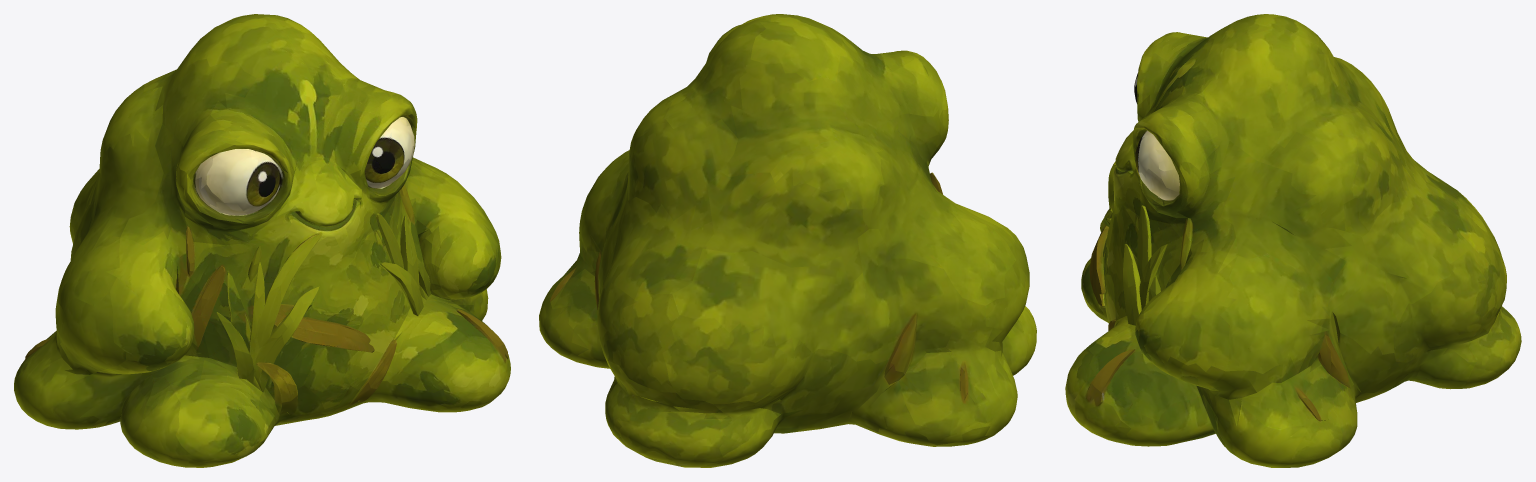
The model's file is bog-slime.glb.
The picture shows the model from 3 angles, left to right: view 1: azimuth 30°, elevation 25°; view 2: azimuth 150°, elevation 25°; view 3: azimuth 270°, elevation 25°; orthographic projection. The views are drawn at different scales.
Visible parts, largest first — view 1: output_unwrapped; view 2: output_unwrapped; view 3: output_unwrapped.
Part boxes in pixels (bbox=[...]): output_unwrapped: bbox=[14, 14, 510, 467]; output_unwrapped: bbox=[539, 14, 1036, 467]; output_unwrapped: bbox=[1065, 14, 1521, 467].
Size of the model in its own units: 1.9 by 1.41 by 1.69.
1 material, 1 textured.
